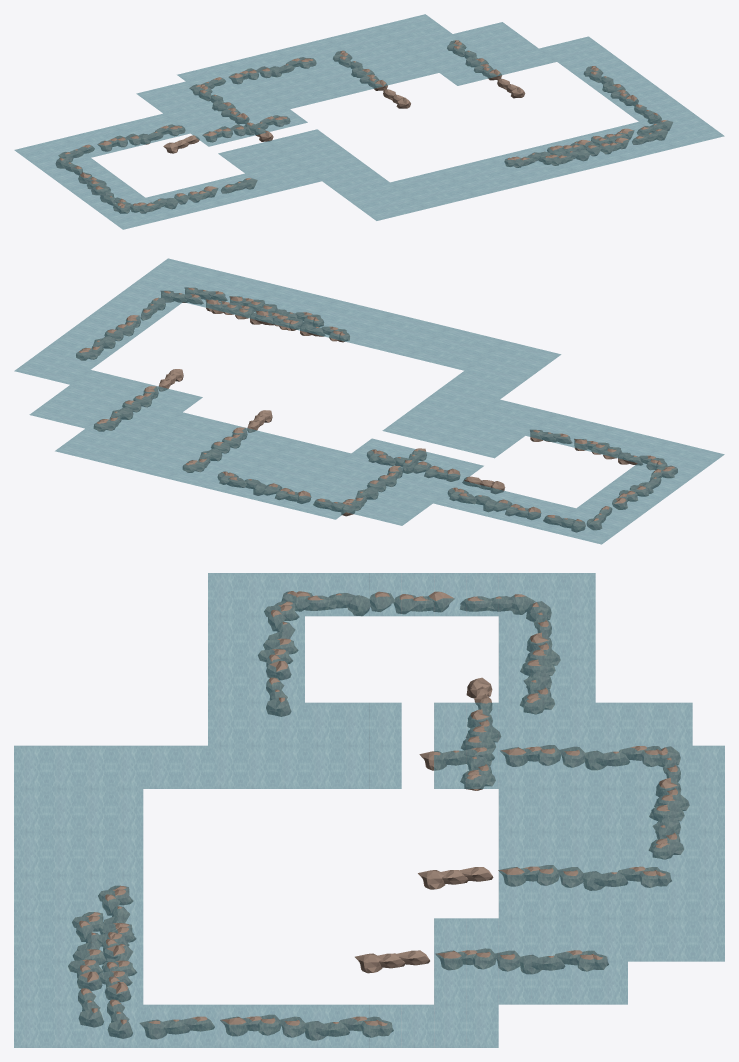
File: fushishan_dibiao.fbx
The picture shows the model from 3 angles, top to bottom: view 1: azimuth 30°, elevation 25°; view 2: azimuth 150°, elevation 25°; view 3: azimuth 270°, elevation 25°; orthographic projection. The views are drawn at different scales.
Parts seen in each view (by area): view 1: 平面.003, 棱角球.011, 棱角球.002, 棱角球.009, 棱角球.008, 棱角球.007, 棱角球.006, 棱角球.005, 棱角球.010, 棱角球.004, 棱角球.014, 棱角球.001 (+1 smaller); view 2: 平面.003, 棱角球.009, 棱角球.007, 棱角球.011, 棱角球.008, 棱角球.006, 棱角球.005, 棱角球.003, 棱角球.004, 棱角球.010, 棱角球.014, 棱角球.002 (+1 smaller); view 3: 平面.003, 棱角球.005, 棱角球.006, 棱角球.004, 棱角球.010, 棱角球.014, 棱角球.009, 棱角球.011, 棱角球.007, 棱角球.002, 棱角球.008, 棱角球.003 (+1 smaller).
Part boxes in pixels (bbox=[...]): 平面.003: bbox=[14, 14, 724, 229]; 棱角球.011: bbox=[130, 178, 257, 213]; 棱角球.002: bbox=[542, 129, 667, 165]; 棱角球.009: bbox=[58, 124, 185, 161]; 棱角球.008: bbox=[163, 115, 290, 153]; 棱角球.007: bbox=[189, 57, 316, 90]; 棱角球.006: bbox=[333, 50, 410, 108]; 棱角球.005: bbox=[447, 40, 525, 98]; 棱角球.010: bbox=[56, 157, 131, 213]; 棱角球.004: bbox=[584, 66, 661, 123]; 棱角球.014: bbox=[193, 84, 273, 141]; 棱角球.001: bbox=[504, 131, 627, 167]; 平面.003: bbox=[14, 258, 724, 544]; 棱角球.009: bbox=[448, 487, 585, 532]; 棱角球.007: bbox=[217, 471, 355, 516]; 棱角球.011: bbox=[530, 430, 667, 469]; 棱角球.008: bbox=[367, 449, 505, 493]; 棱角球.006: bbox=[183, 410, 272, 472]; 棱角球.005: bbox=[94, 369, 183, 431]; 棱角球.003: bbox=[161, 291, 298, 330]; 棱角球.004: bbox=[76, 297, 165, 360]; 棱角球.010: bbox=[587, 466, 677, 529]; 棱角球.014: bbox=[340, 448, 426, 510]; 棱角球.002: bbox=[185, 287, 323, 326]; 平面.003: bbox=[14, 573, 724, 1047]; 棱角球.005: bbox=[355, 948, 608, 973]; 棱角球.006: bbox=[418, 865, 671, 890]; 棱角球.004: bbox=[140, 1015, 393, 1040]; 棱角球.010: bbox=[282, 591, 534, 615]; 棱角球.014: bbox=[419, 745, 671, 770]; 棱角球.009: bbox=[520, 601, 560, 714]; 棱角球.011: bbox=[258, 601, 298, 716]; 棱角球.007: bbox=[649, 746, 689, 859]; 棱角球.002: bbox=[68, 912, 105, 1027]; 棱角球.008: bbox=[460, 677, 500, 790]; 棱角球.003: bbox=[99, 923, 136, 1038].
Bounding box in the file's own units: 34773 × 659 × 22000.
